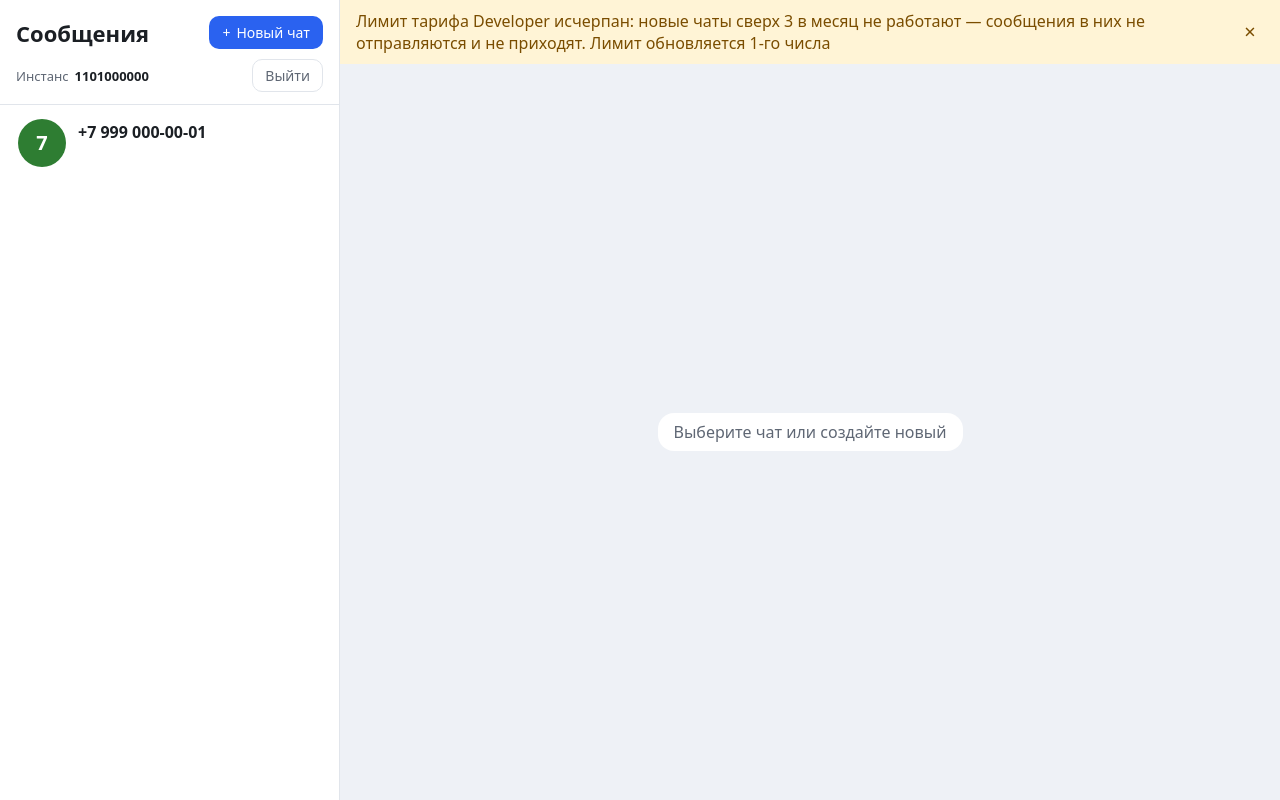
Test: Poller: квота из очереди (§5.5, ВА-13, Р-5 v1.3.7) › закрытый баннер квоты: quotaExceeded и 466 на receive его не возвращают, опрос — с backoff
Expected: the message with test id "banner-quota" is shown, [340, 0, 1279, 64]
Step 1. Click the button with test id "banner-quota-close" → (1250, 32), box [1236, 18, 1264, 46]
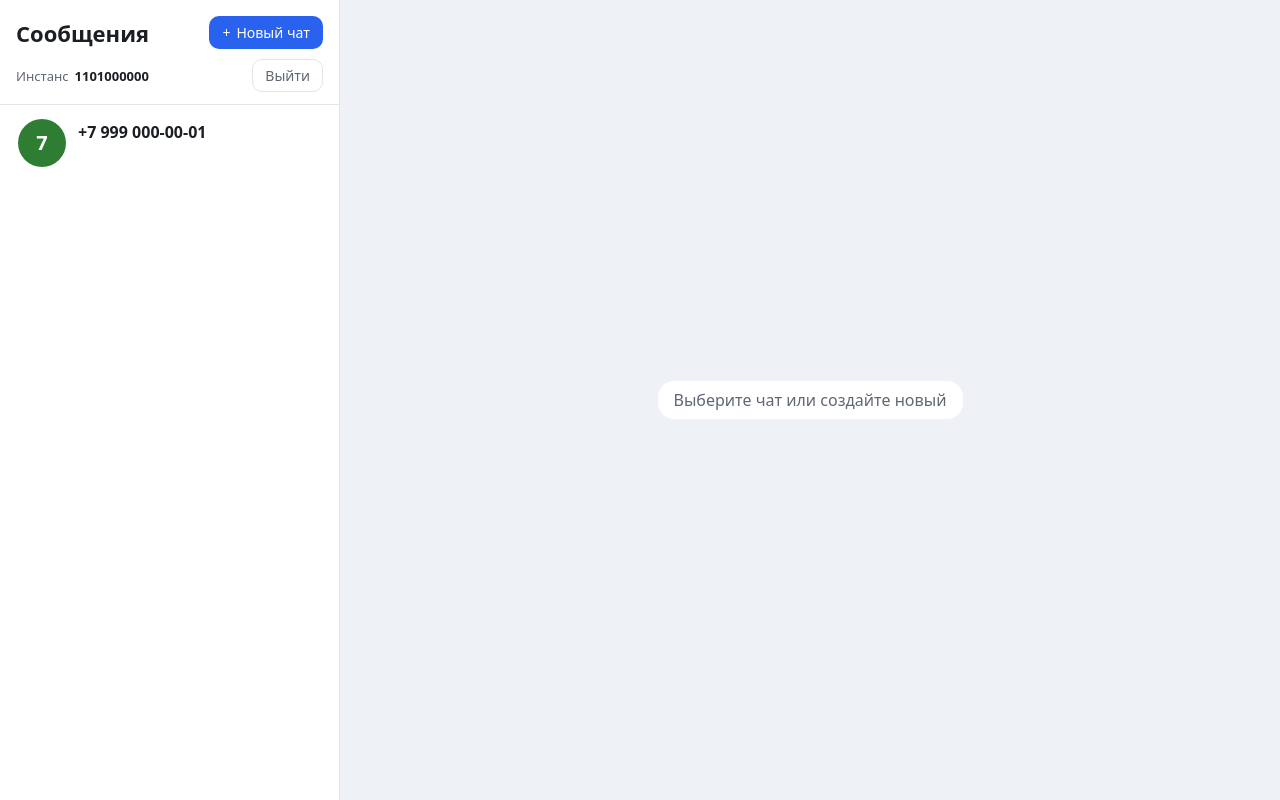
Now the message with test id "banner-quota" is gone
